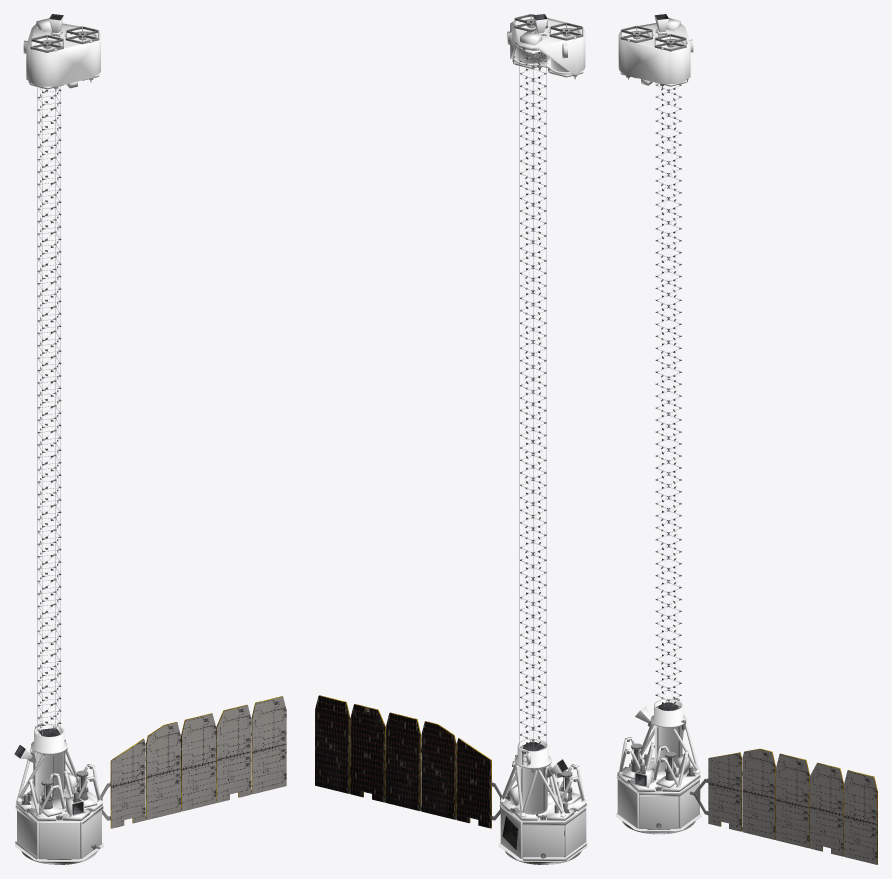
Rendered from nustar.gltf.
The picture shows the model from 3 angles, left to right: view 1: azimuth 30°, elevation 25°; view 2: azimuth 150°, elevation 25°; view 3: azimuth 330°, elevation 25°; orthographic projection. The views are drawn at different scales.
Visible parts, largest first — view 1: tex_02, foil_silver, foil_silver.002, foil_silver.001, boom_02, boom_01, boom_03, tex_01, parts_AO_04, parts_AO_02; view 2: shiny panel, foil_silver, foil_silver.001, boom_03, boom_02, boom_01, foil_silver.002, tex_01, parts_AO_04; view 3: tex_02, foil_silver, foil_silver.002, foil_silver.001, boom_02, boom_01, boom_03, tex_01, parts_AO_04, parts_AO_02.
Part boxes in pixels (<box>): tex_02: <box>47,696,286,859</box>; foil_silver: <box>15,15,103,861</box>; foil_silver.002: <box>26,23,100,86</box>; foil_silver.001: <box>17,810,101,859</box>; boom_02: <box>37,282,61,514</box>; boom_01: <box>37,505,61,735</box>; boom_03: <box>37,86,61,291</box>; tex_01: <box>14,14,282,864</box>; parts_AO_04: <box>30,26,99,52</box>; parts_AO_02: <box>28,723,88,809</box>; shiny panel: <box>315,696,490,828</box>; foil_silver: <box>498,15,587,861</box>; foil_silver.001: <box>500,807,586,858</box>; boom_03: <box>519,48,546,304</box>; boom_02: <box>519,296,546,528</box>; boom_01: <box>519,518,546,750</box>; foil_silver.002: <box>510,16,585,74</box>; tex_01: <box>319,14,581,864</box>; parts_AO_04: <box>514,14,583,40</box>; tex_02: <box>647,749,876,864</box>; foil_silver: <box>616,16,701,831</box>; foil_silver.002: <box>618,23,690,83</box>; foil_silver.001: <box>617,778,699,828</box>; boom_02: <box>655,277,681,497</box>; boom_01: <box>655,493,681,710</box>; boom_03: <box>655,84,681,282</box>; tex_01: <box>622,14,877,864</box>; parts_AO_04: <box>620,25,686,51</box>; parts_AO_02: <box>631,698,685,780</box>.
Bounding box in the file's own units: 7.54 × 22.87 × 2.22.
9 materials, 8 textured.
